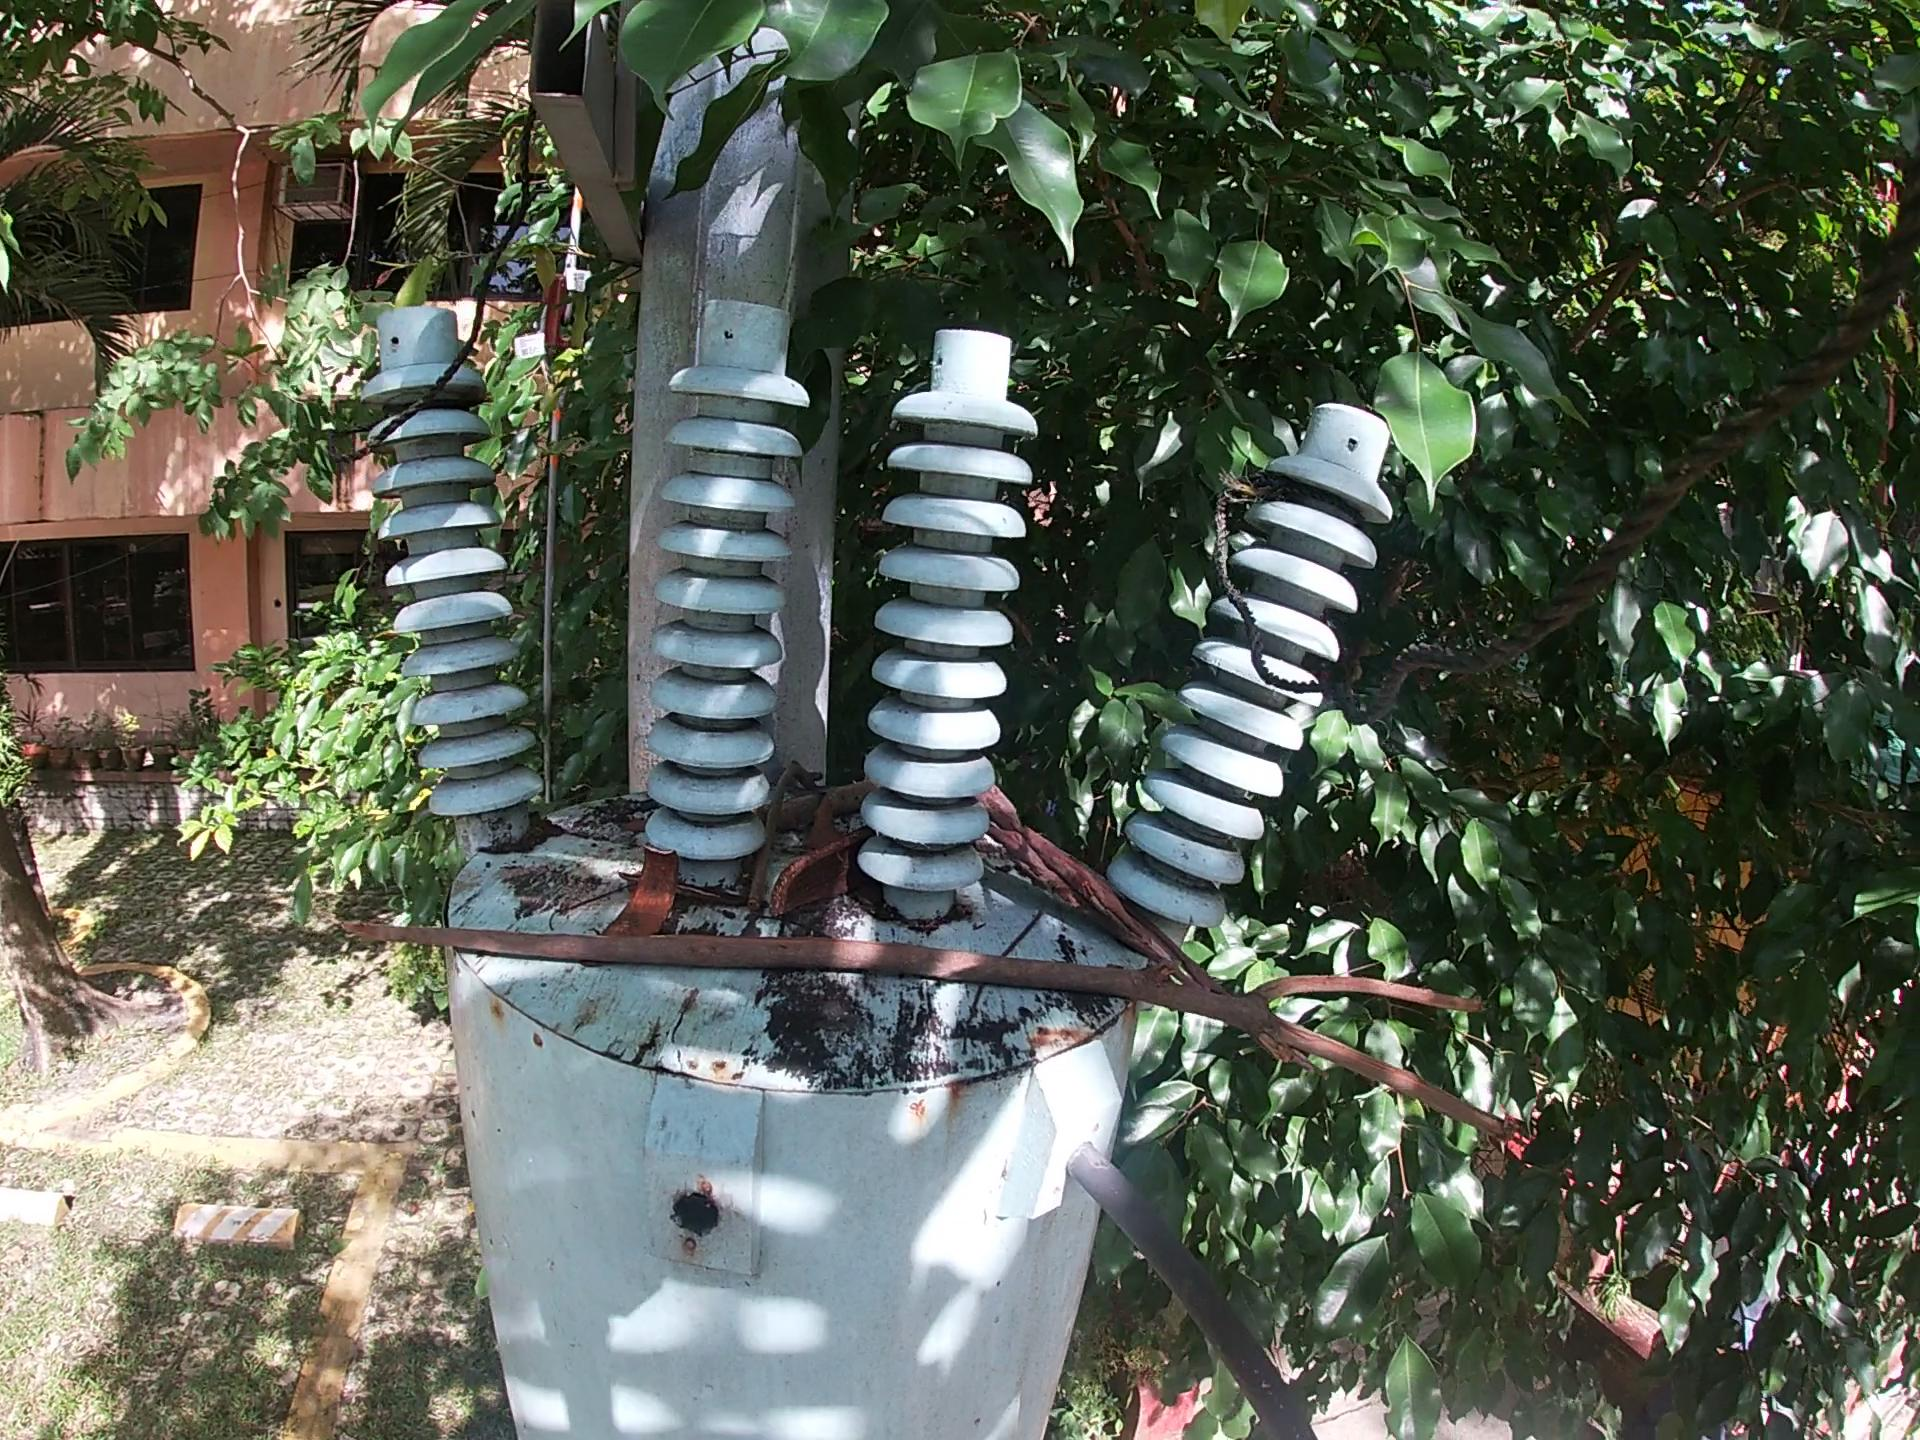leaf: (806, 790, 842, 859)
mahogany fruit: (770, 824, 881, 926), (599, 843, 688, 942)
tree branch: (333, 912, 1519, 1150), (972, 781, 1326, 1077), (739, 761, 825, 918), (751, 776, 880, 838)
